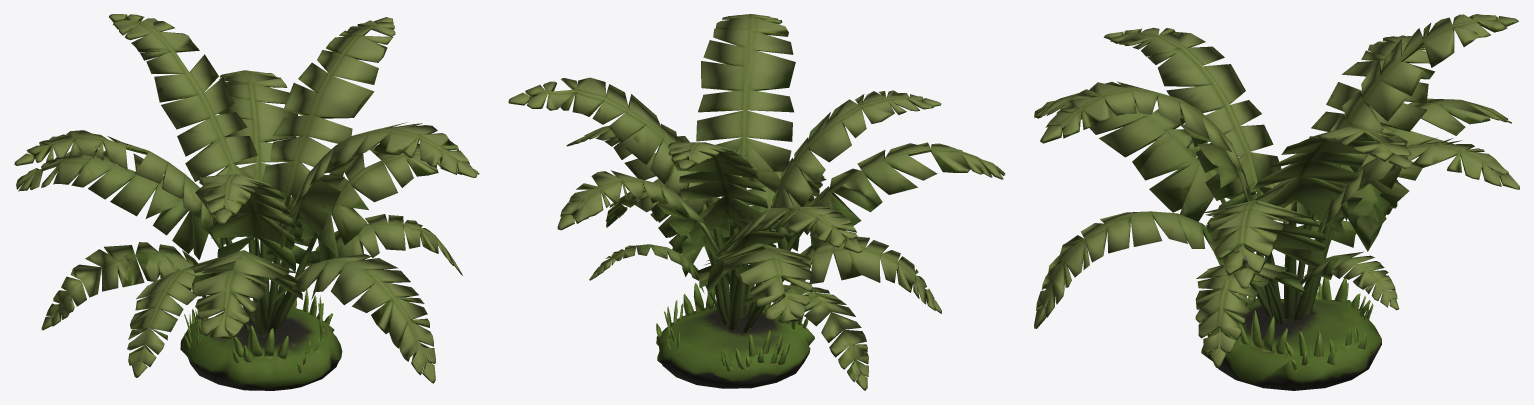
File: giant-fern.glb
3 renders of one model, left to right at view 1: azimuth 30°, elevation 25°; view 2: azimuth 150°, elevation 25°; view 3: azimuth 270°, elevation 25°, orthographic. The views are drawn at different scales.
Parts seen in each view (by area): view 1: Giant Fern; view 2: Giant Fern; view 3: Giant Fern.
Boxes of the visible parts, x1=… form: Giant Fern: x1=14, y1=14, x2=479, y2=390; Giant Fern: x1=508, y1=14, x2=1005, y2=390; Giant Fern: x1=1034, y1=14, x2=1519, y2=390.
Size of the model in its own units: 0.9941 by 0.7168 by 0.998.
Materials: 1 (1 with a texture image).
